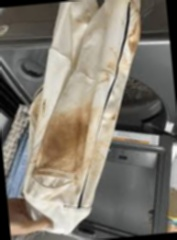earth: (47, 122, 87, 160), (129, 42, 136, 53)
